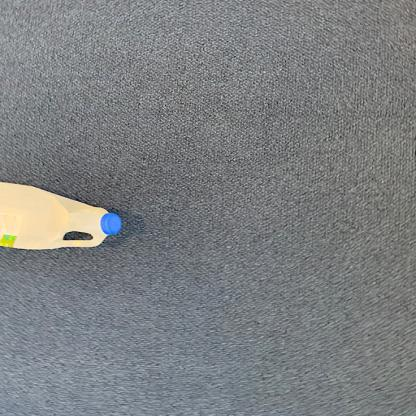trash: (0, 180, 124, 250)
